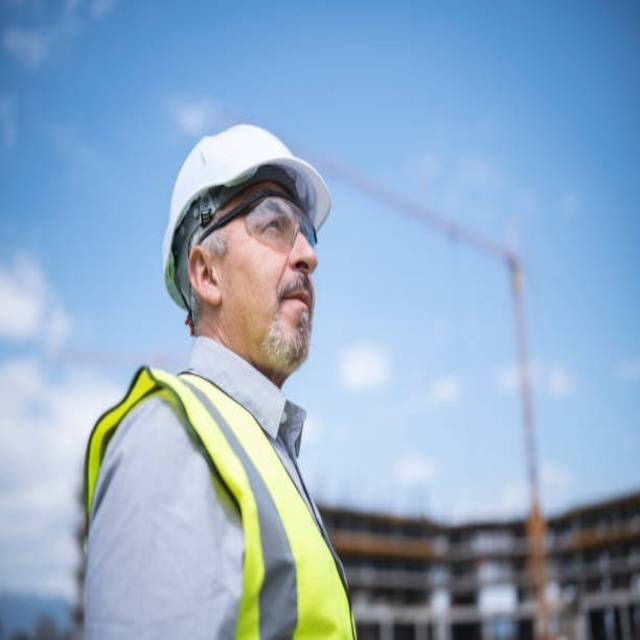Gafas: (195, 189, 317, 255)
Sin_mascara: (268, 275, 316, 325)
